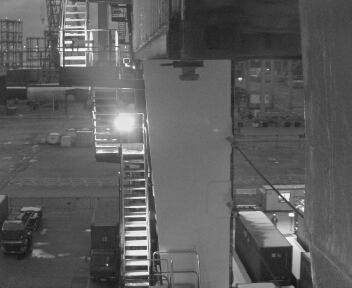twist_lock_1: (166, 56, 208, 88)
